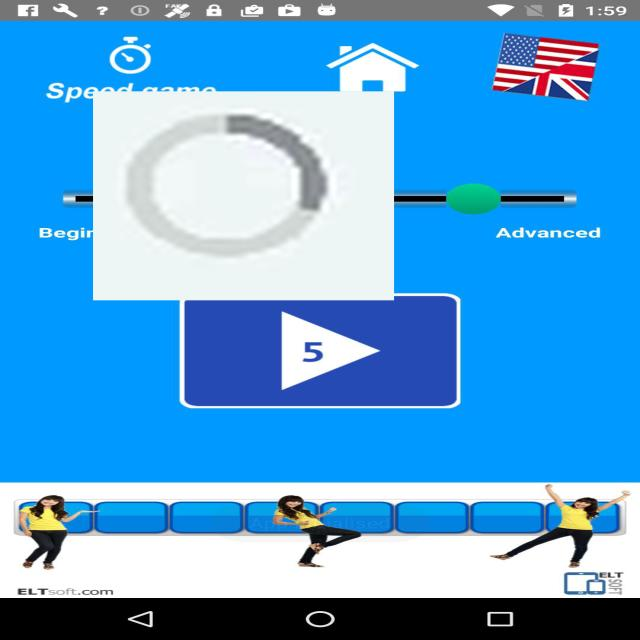misdirection: (93, 92, 394, 300)
